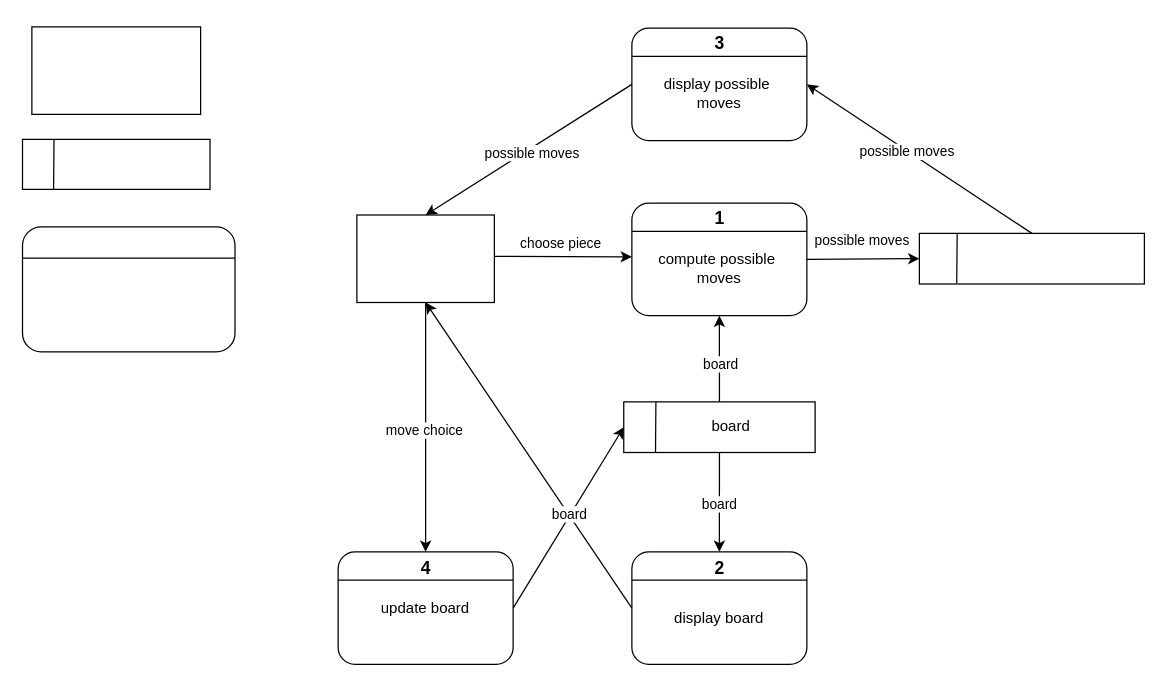
This 1166x686 diagram has some shape labels left out. Here are the shapes that lost their labels. From the top down, the centre of each, then its label:
the point at 425,258: User
the point at 1031,258: possible
